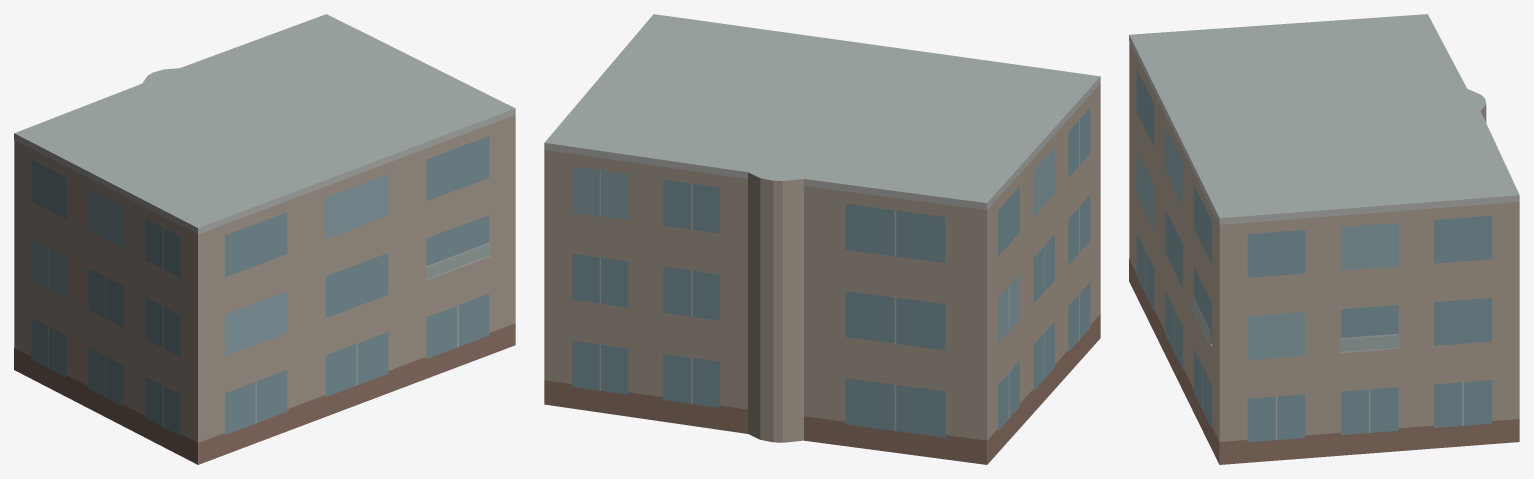
The model's file is survey-upis-32582108.glb.
3 views of the same model, side by side, from view 1: azimuth 30°, elevation 25°; view 2: azimuth 150°, elevation 25°; view 3: azimuth 270°, elevation 25° (orthographic). The views are drawn at different scales.
Parts seen in each view (by area): view 1: survey-upis-32582108.tmp; view 2: survey-upis-32582108.tmp; view 3: survey-upis-32582108.tmp.
Part boxes in pixels (<box>): survey-upis-32582108.tmp: <box>14,14,515,464</box>; survey-upis-32582108.tmp: <box>544,14,1100,464</box>; survey-upis-32582108.tmp: <box>1129,14,1519,464</box>.
Size of the model in its own units: 16.26 by 9.15 by 13.14.
